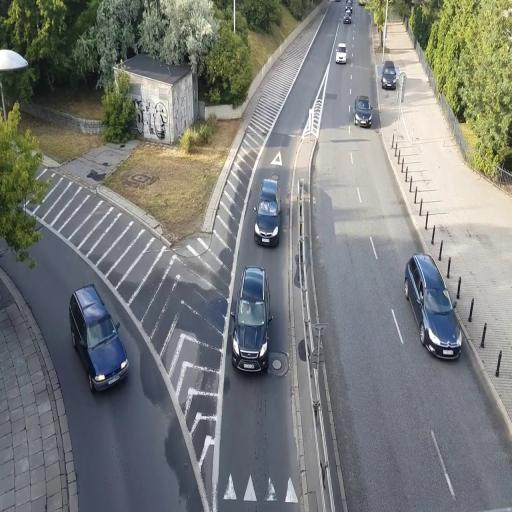vehicle: (68, 283, 130, 395), (403, 253, 462, 360), (404, 253, 462, 360), (230, 264, 272, 372), (230, 265, 272, 372), (254, 178, 279, 246), (353, 96, 372, 126), (380, 61, 398, 89), (335, 42, 347, 65)
